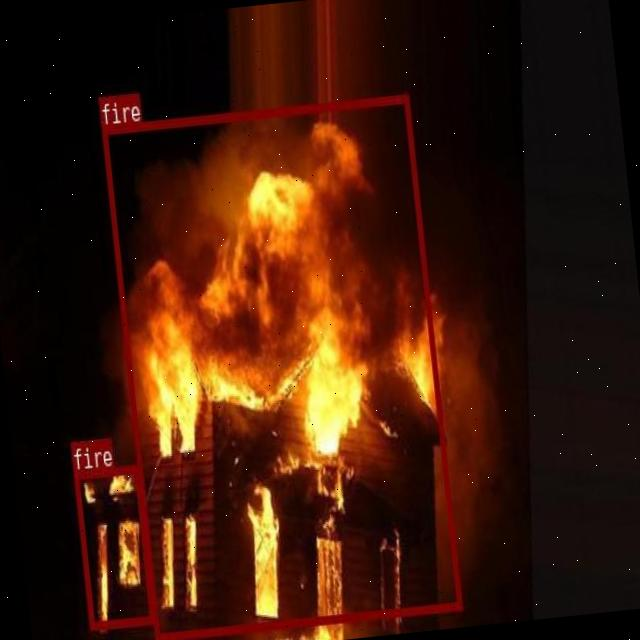fire: (100, 93, 461, 640), (74, 463, 154, 629)
